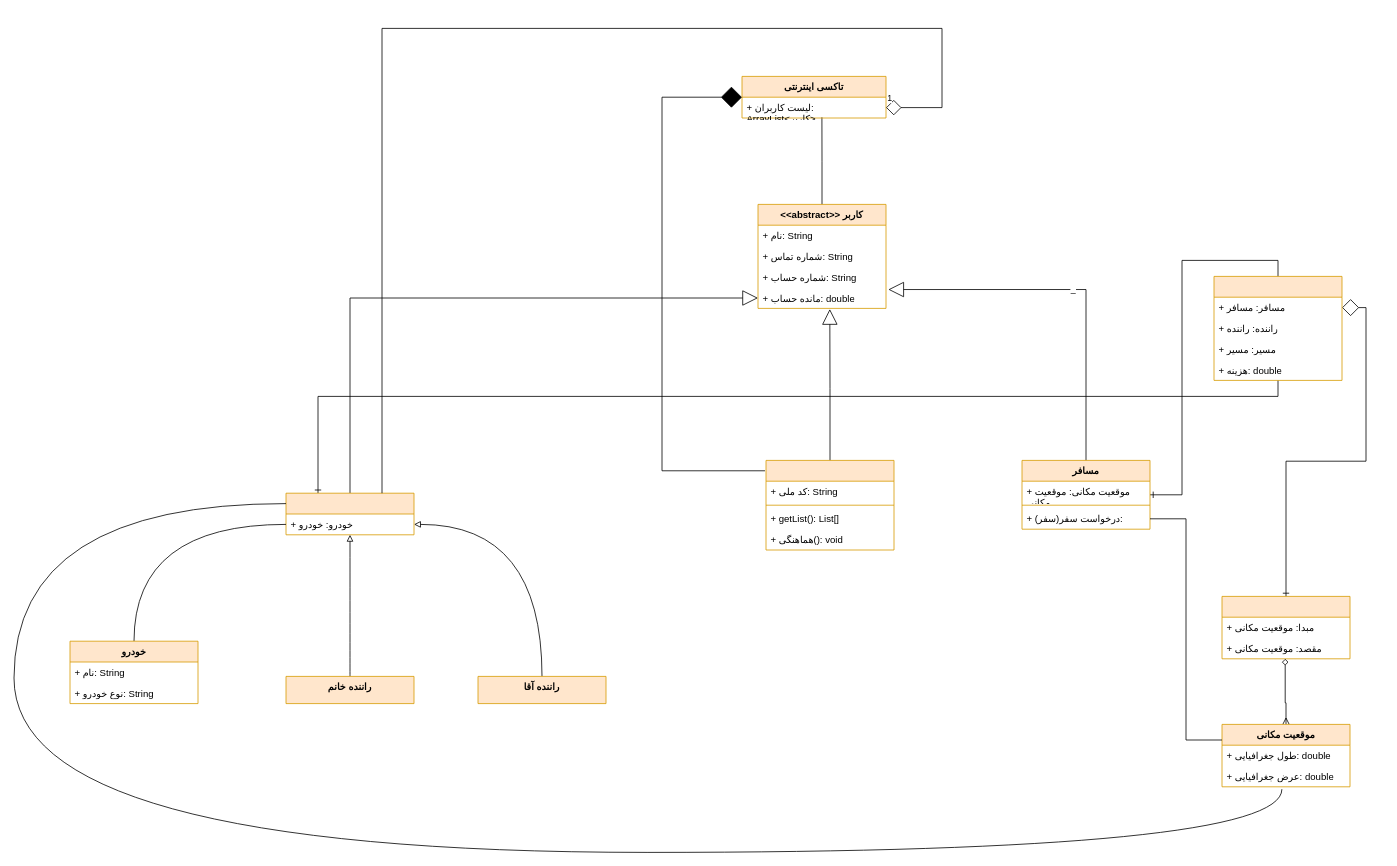
This 1397x866 diagram has some shape labels left out. The shapes that lost their labels are listed below. From the top down, each one's box as (x1, y1, x2, y2) in pixels, then its label:
(1213, 276, 1342, 380): سفر
(285, 492, 414, 535): راننده <<abstract>>
(765, 460, 894, 550): مدیر
(1221, 596, 1350, 659): مسیر
